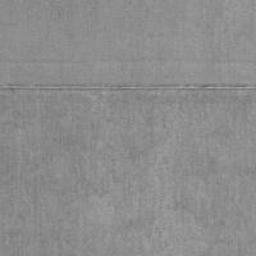Welding line: (0, 82, 256, 91)
